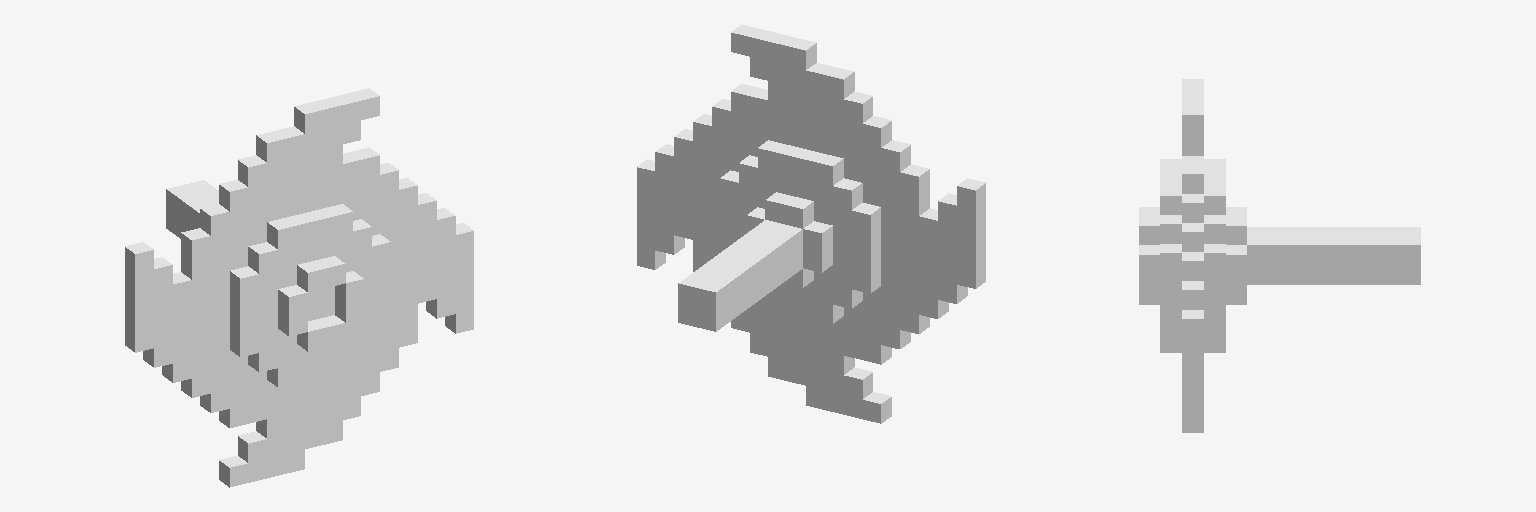
The model's file is Sawblade-Arm.obj.
The picture shows the model from 3 angles: view 1: azimuth 30°, elevation 25°; view 2: azimuth 150°, elevation 25°; view 3: azimuth 270°, elevation 25°; orthographic projection.
Visible parts, largest first — view 1: object 1; view 2: object 1; view 3: object 1.
Boxes of the visible parts, x1=… form: object 1: x1=125, y1=88, x2=473, y2=487; object 1: x1=637, y1=24, x2=985, y2=423; object 1: x1=1139, y1=79, x2=1420, y2=432.
Bounding box in the file's own units: 1.8 × 1.8 × 1.3.